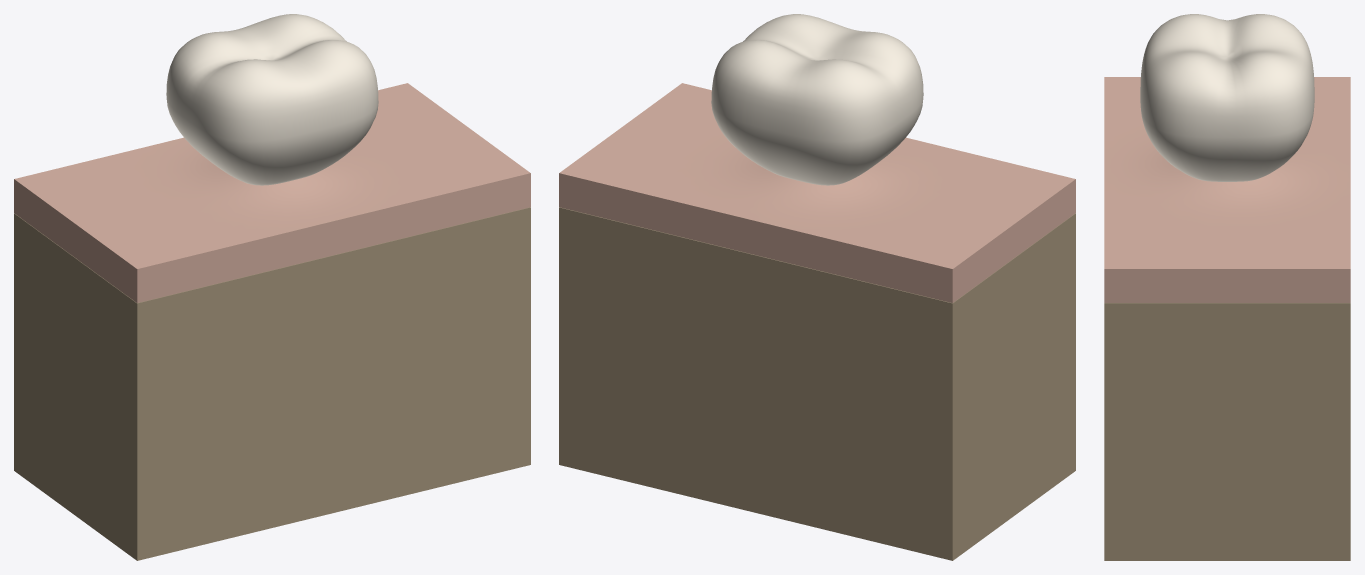
Rendered from implant.glb.
3 views of the same model, side by side, from view 1: azimuth 30°, elevation 25°; view 2: azimuth 150°, elevation 25°; view 3: azimuth 270°, elevation 25° (orthographic).
Parts seen in each view (by area): view 1: bone, gum, crown; view 2: bone, gum, crown; view 3: bone, gum, crown.
Boxes of the visible parts, bbox=[...] form: bone: bbox=[14, 207, 530, 560]; gum: bbox=[14, 83, 530, 302]; crown: bbox=[166, 14, 378, 185]; bone: bbox=[559, 207, 1075, 560]; gum: bbox=[559, 83, 1075, 302]; crown: bbox=[711, 14, 923, 185]; bone: bbox=[1104, 303, 1350, 560]; gum: bbox=[1104, 77, 1350, 302]; crown: bbox=[1140, 14, 1314, 181].
Size of the model in its own units: 1.73 by 1.79 by 0.936.
